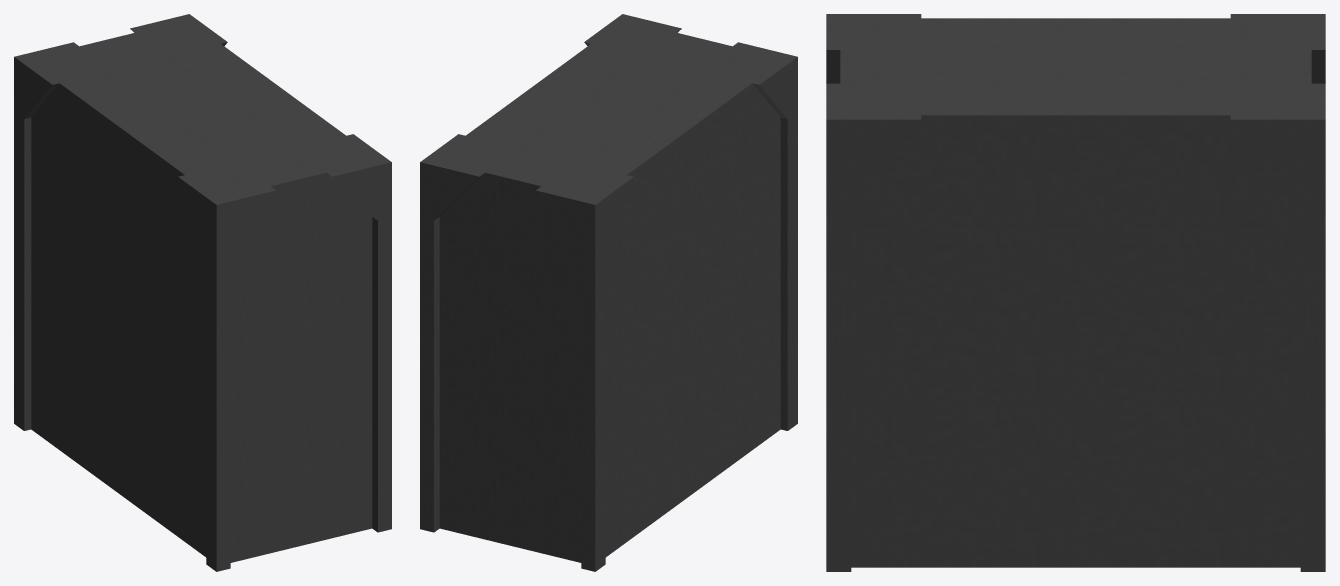
File: WallPiece_01_Top.fbx
3 renders of one model, left to right at view 1: azimuth 30°, elevation 25°; view 2: azimuth 150°, elevation 25°; view 3: azimuth 270°, elevation 25°, orthographic. The views are drawn at different scales.
Visible parts, largest first — view 1: Corridor_WallPiece_01_Top; view 2: Corridor_WallPiece_01_Top; view 3: Corridor_WallPiece_01_Top.
Boxes of the visible parts, left/top/right/bottom form: Corridor_WallPiece_01_Top: left=14, top=14, right=391, bottom=571; Corridor_WallPiece_01_Top: left=420, top=14, right=797, bottom=571; Corridor_WallPiece_01_Top: left=826, top=14, right=1325, bottom=571.
Bounding box in the file's own units: 50 × 100 × 100.
1 material, 1 textured.
